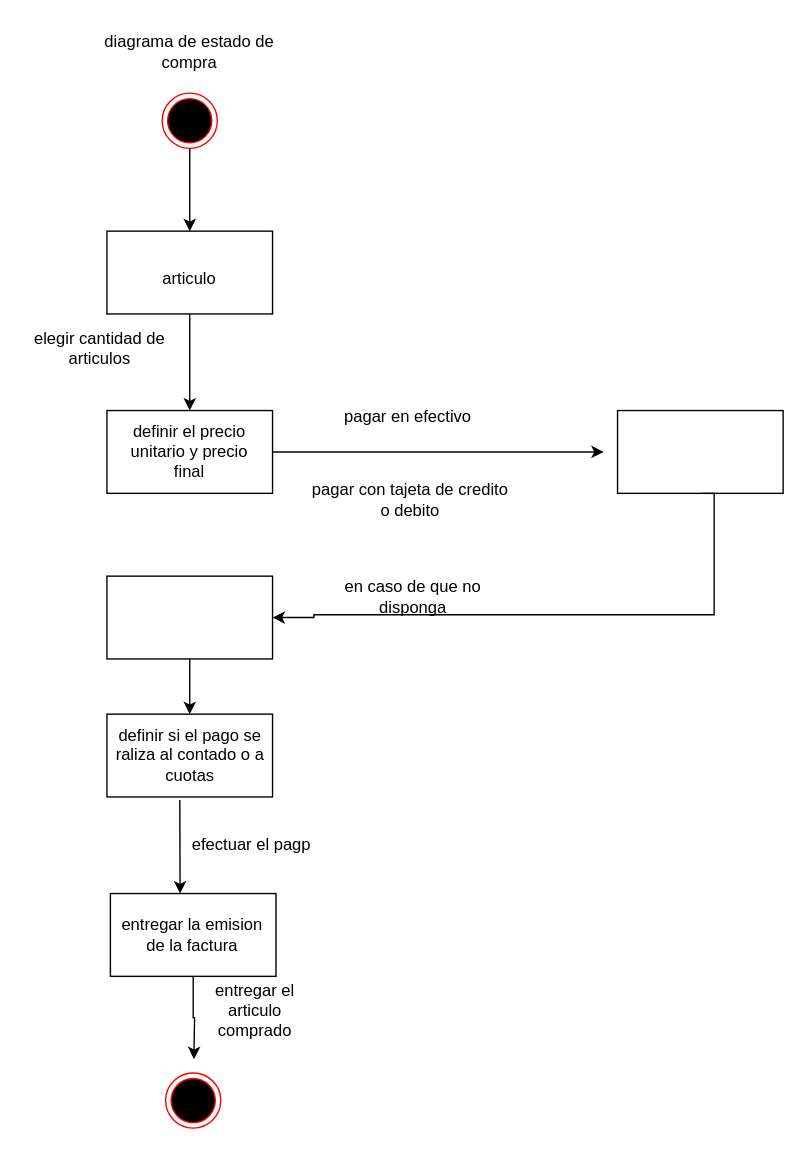
The diagram is 807 pixels wide and 1152 high, and some of its shapes have lost their labels. The shapes that lost their labels are listed below. From the top down, each one's centre as x and y in pixels, then its label:
At [699,451]: "definir si la tarjeta tiene saldo suficiente".
At [189,617]: "volver a realizar la operacion".
